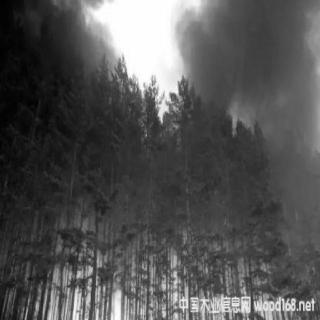Smoke: (166, 1, 313, 114), (2, 3, 120, 93)
